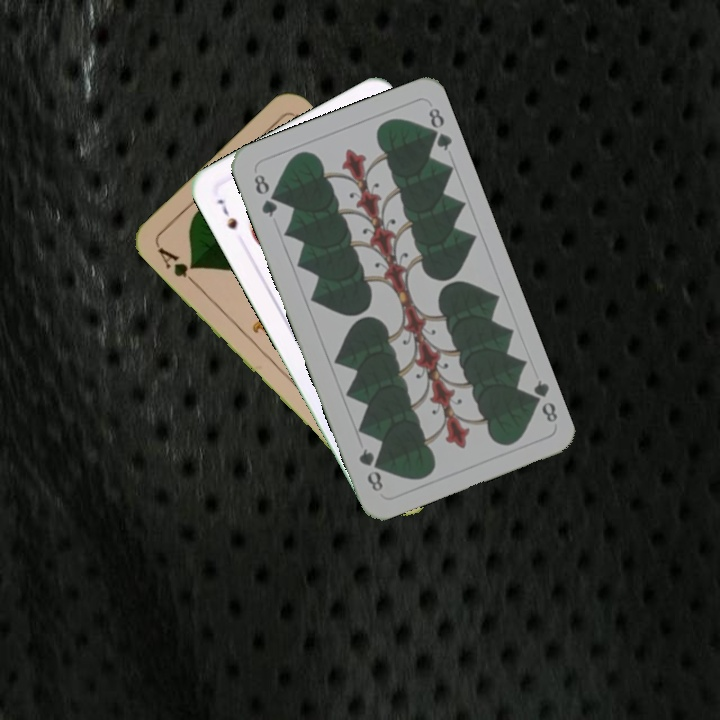G8: (523, 376, 561, 425), (249, 170, 280, 220)
GA: (153, 242, 200, 288)
S7: (212, 194, 240, 233)
